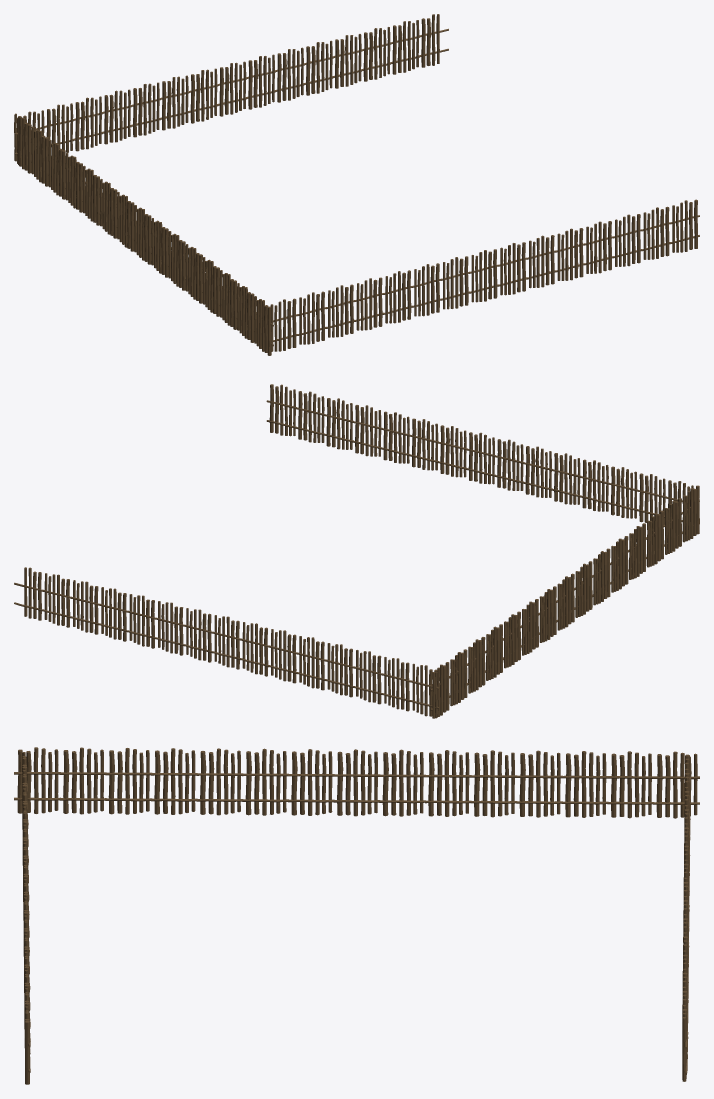
Rendered from RhinoSanctuaryfence.fbx.
The picture shows the model from 3 angles, top to bottom: view 1: azimuth 30°, elevation 25°; view 2: azimuth 150°, elevation 25°; view 3: azimuth 270°, elevation 25°; orthographic projection. The views are drawn at different scales.
Visible parts, largest first — view 1: Fence.002, Fence.003, Fence.001; view 2: Fence.003, Fence.002, Fence.001; view 3: Fence.001, Fence.003, Fence.002.
Part boxes in pixels (left/top/right/bottom): Fence.002: left=270, top=199, right=699, bottom=351; Fence.003: left=14, top=14, right=448, bottom=164; Fence.001: left=14, top=113, right=273, bottom=355; Fence.003: left=14, top=567, right=439, bottom=718; Fence.002: left=266, top=384, right=693, bottom=524; Fence.001: left=430, top=485, right=699, bottom=718; Fence.001: left=14, top=747, right=699, bottom=818; Fence.003: left=682, top=754, right=690, bottom=1081; Fence.002: left=22, top=752, right=30, bottom=1084.
Bounding box in the file's own units: 1168 × 129 × 1224.
